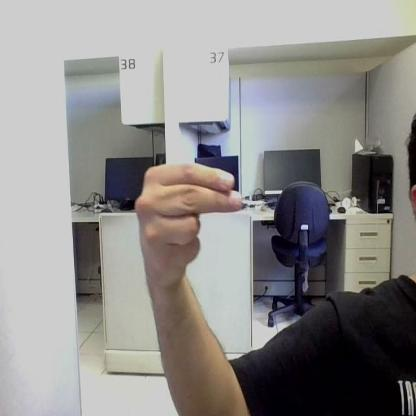H: (136, 165, 242, 285)
